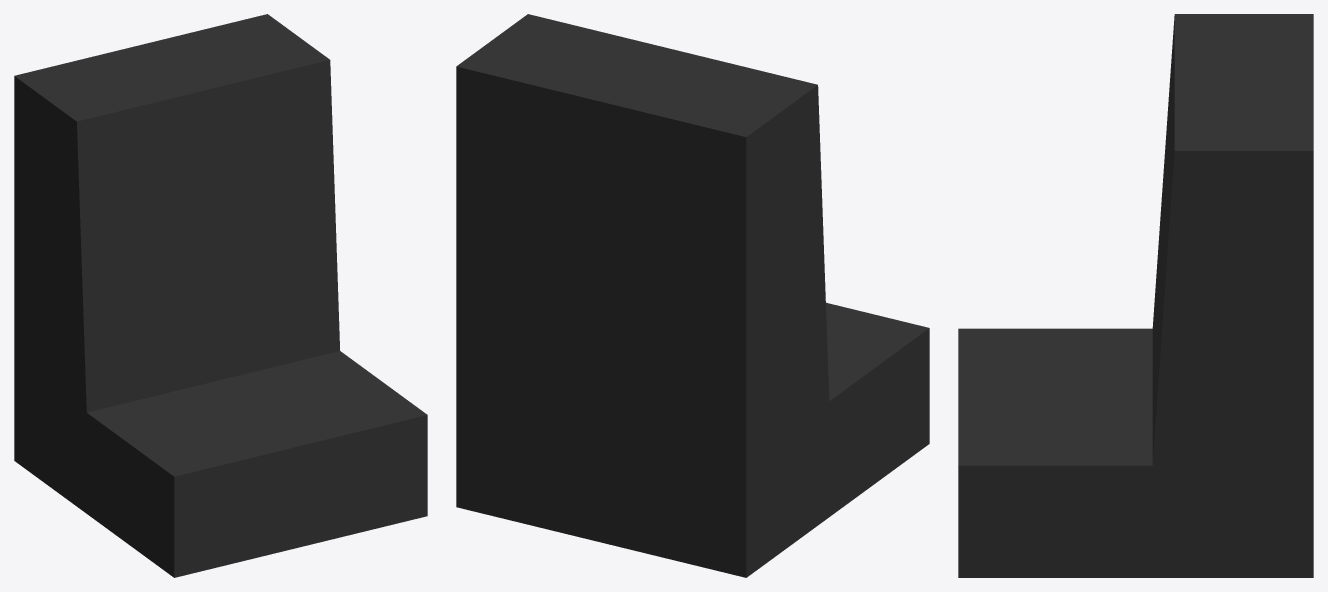
File: Chair_0.fbx
3 renders of one model, left to right at view 1: azimuth 30°, elevation 25°; view 2: azimuth 150°, elevation 25°; view 3: azimuth 270°, elevation 25°, orthographic. The views are drawn at different scales.
Visible parts, largest first — view 1: Chair_0; view 2: Chair_0; view 3: Chair_0.
Boxes of the visible parts, x1=… form: Chair_0: x1=14, y1=14, x2=427, y2=577; Chair_0: x1=456, y1=14, x2=929, y2=577; Chair_0: x1=958, y1=14, x2=1313, y2=577.
Bounding box in the file's own units: 68.46 × 99.39 × 74.91.
